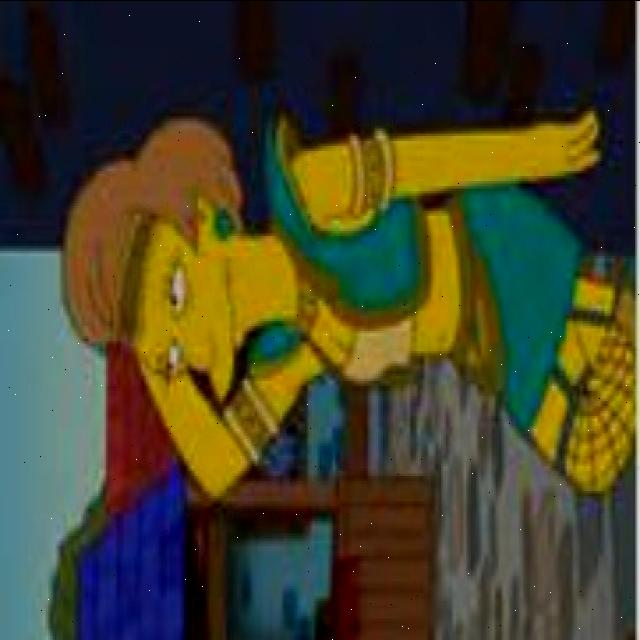Edna Krappel: (59, 108, 298, 416)
